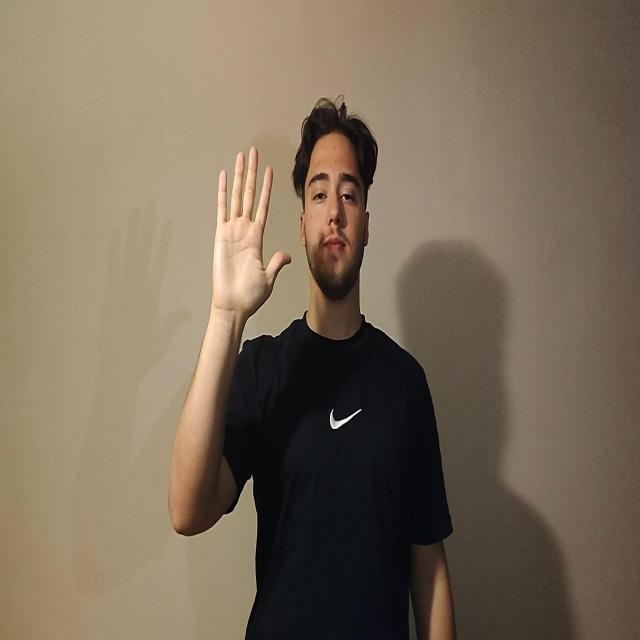hello: (211, 144, 292, 322)
